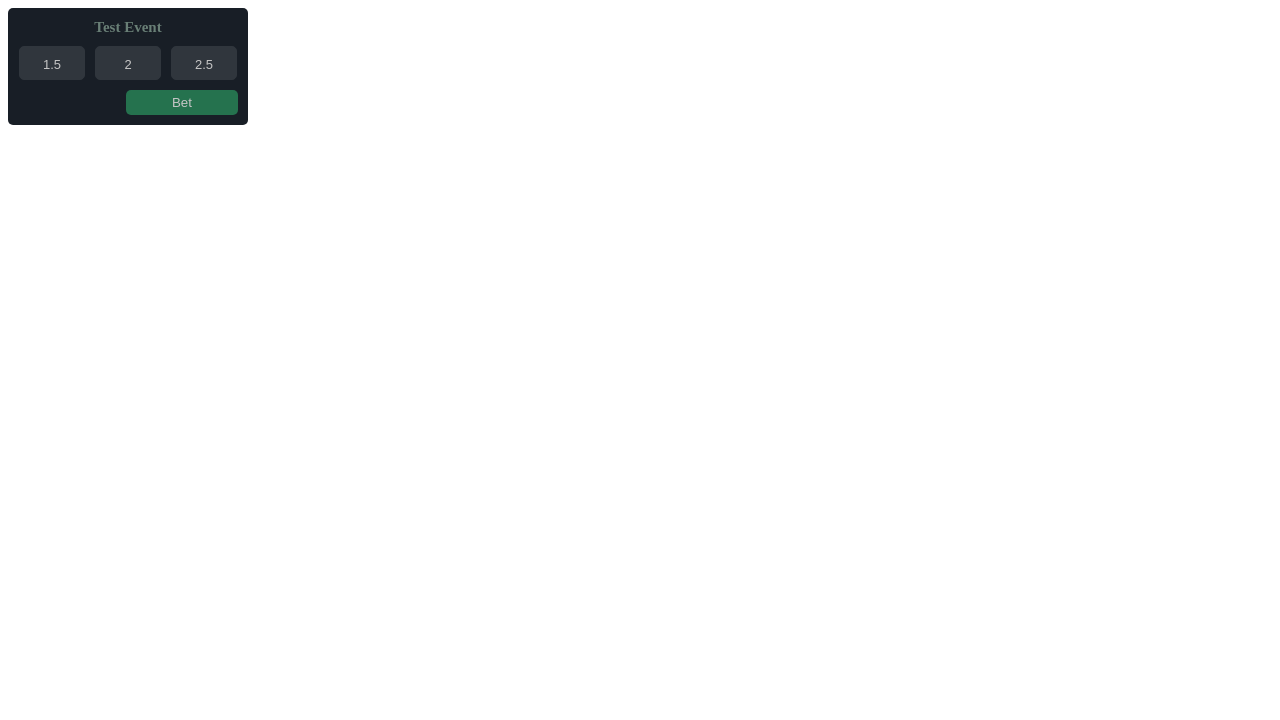
Test: EventItem Component › should open and close BetModal
The width and height of the screenshot is (1280, 720).
Click the button "2" at (128, 63), box [95,46,161,80]
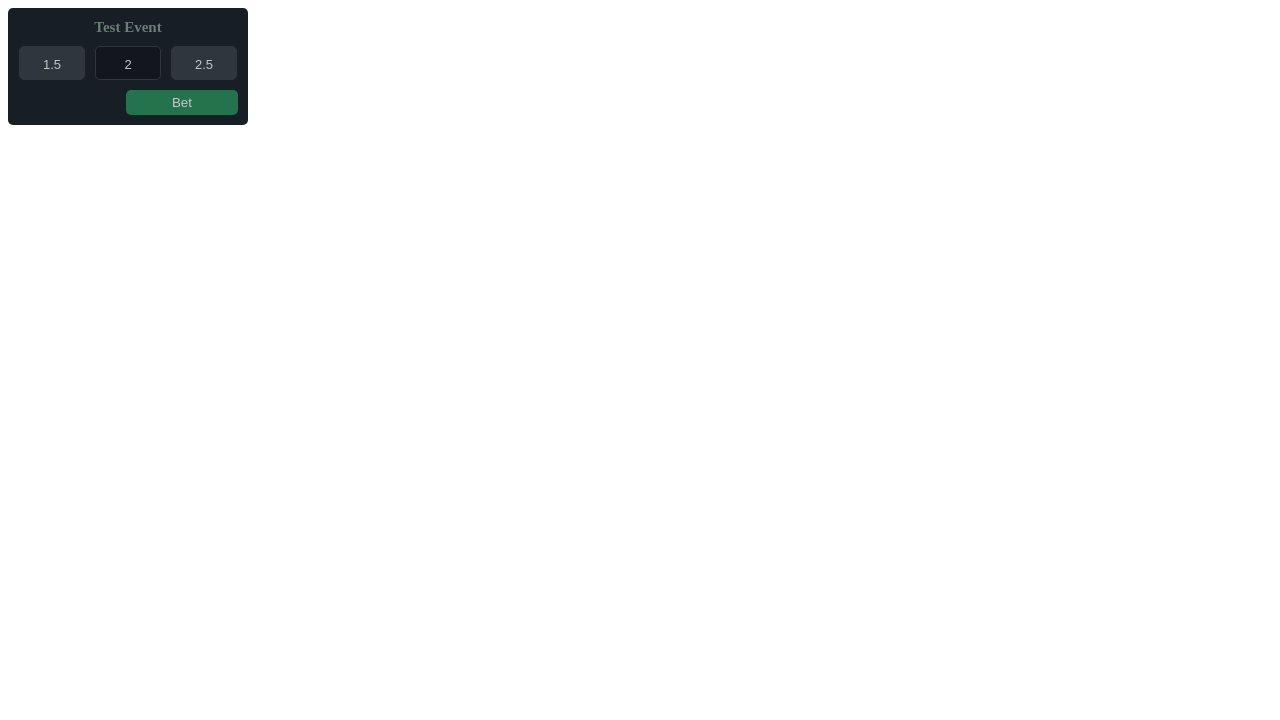
Click the button "Bet" at (182, 103), box [126,90,238,115]
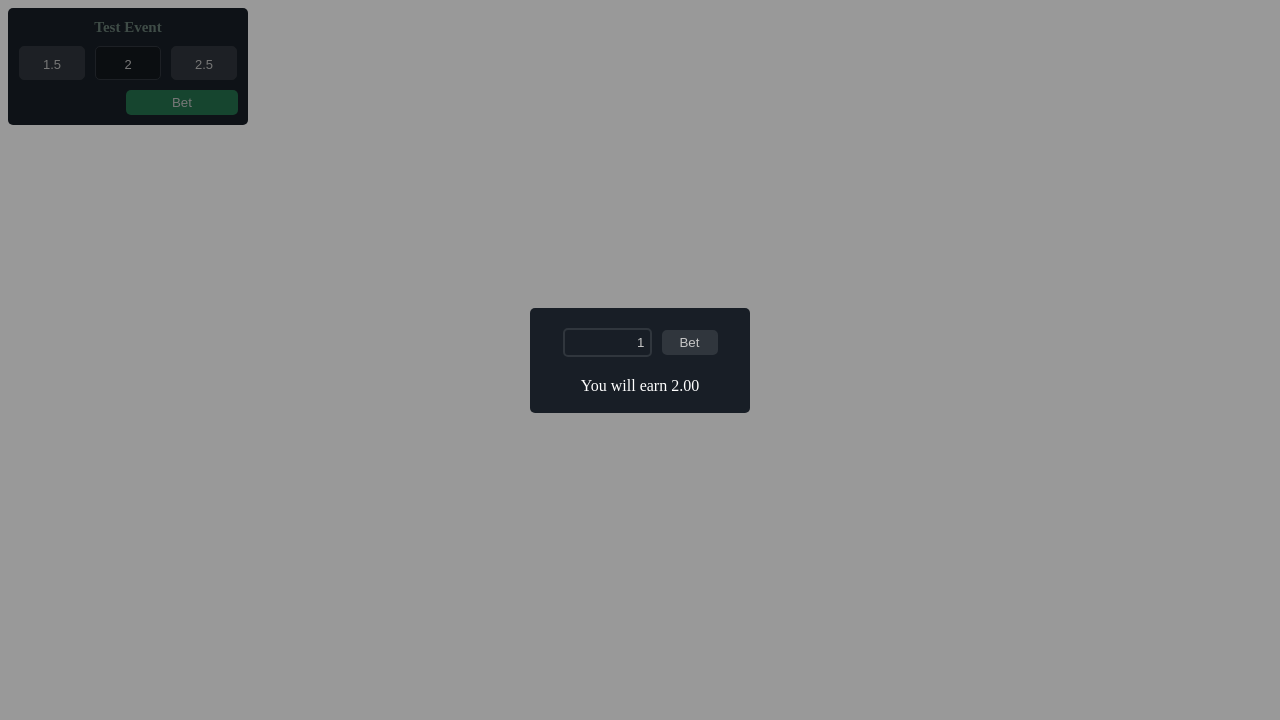
Expected: the element with test id "modal-content" is shown, [530,308,750,413]
Click the button with test id "bet-button" at (690, 343), box [662,330,718,355]
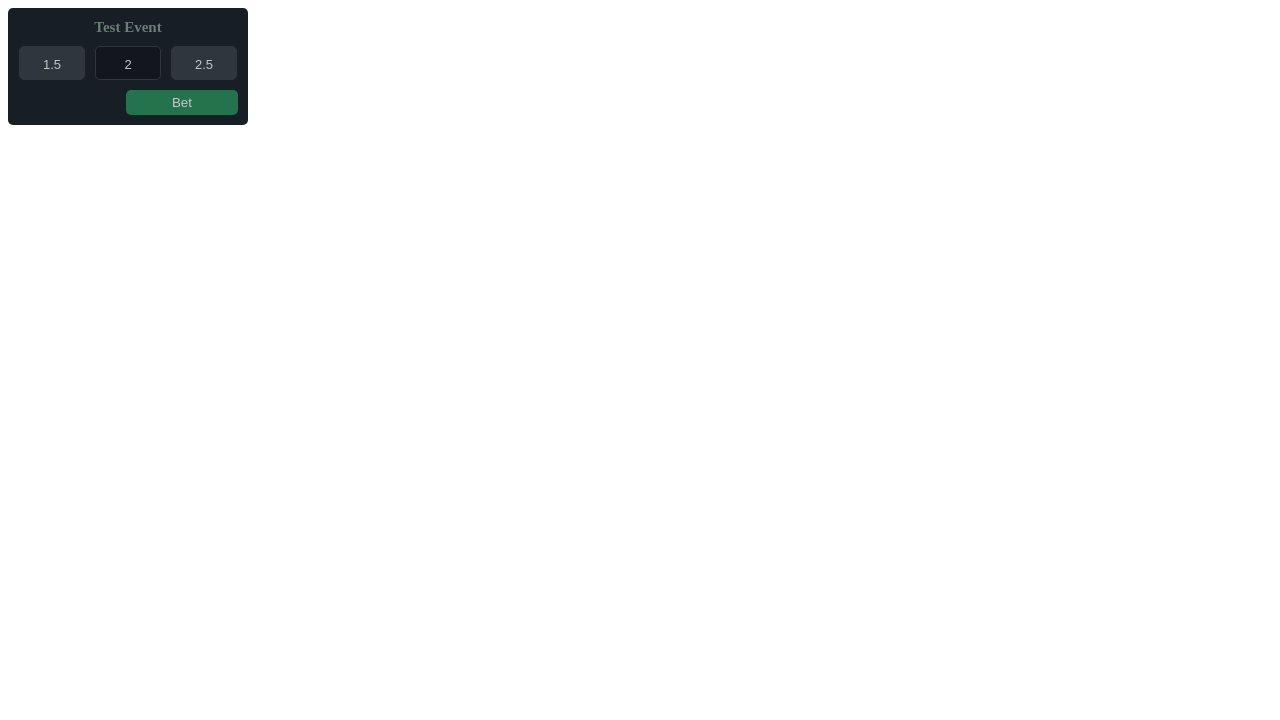
Expected: the element with test id "modal-content" is gone
